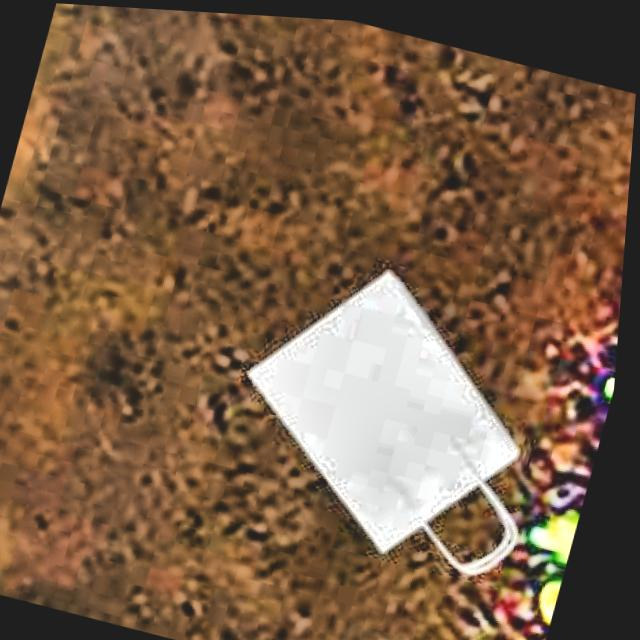Paper-bag: (193, 221, 593, 611)
